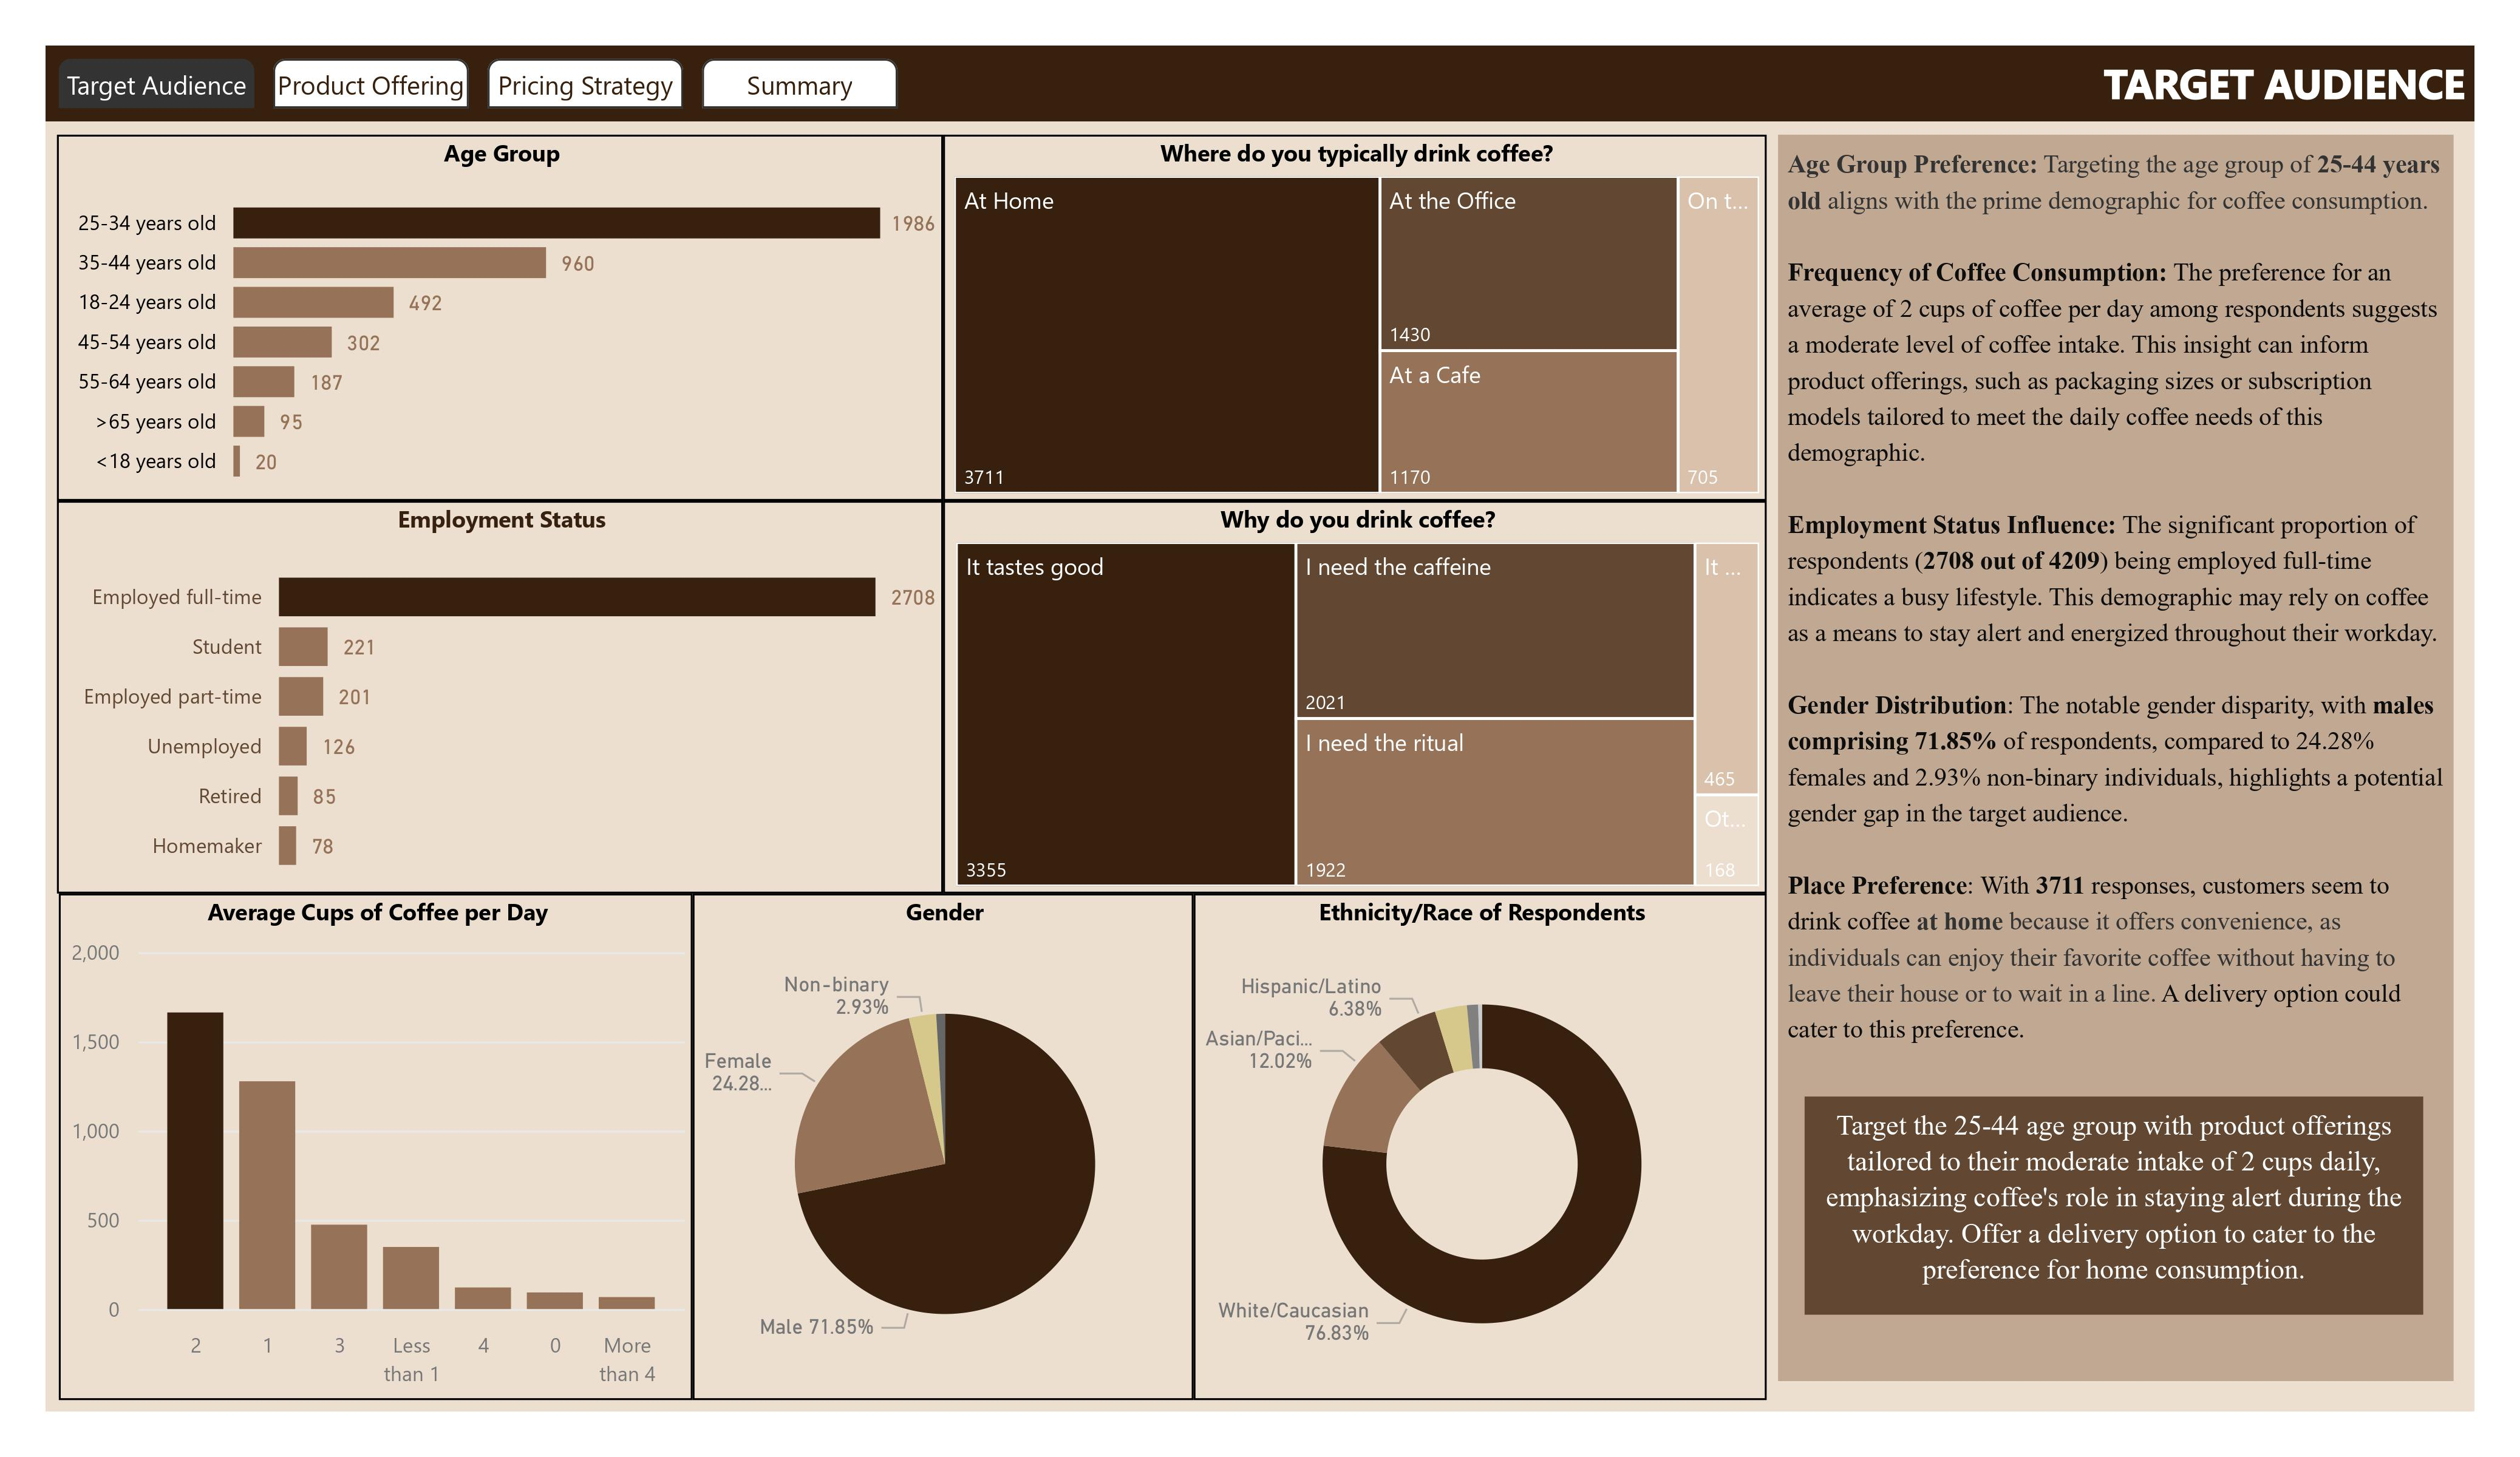

Layout of this report page (visuals, bound fields, positions):
{"tool":"powerbi","page":{"name":"Target Audience","canvas":[1280,720],"ordinal":1},"visuals":[{"type":"clusteredBarChart","title":"Age Group","fields":{"Category":["GACTT_RESULTS_ANONYMIZED_v2.What is your age?"],"Y":["CountNonNull(GACTT_RESULTS_ANONYMIZED_v2.Submission ID)"]},"box":[6.1,46.9,466.8,193],"z":0},{"type":"clusteredBarChart","title":"Employment Status","fields":{"Y":["CountNonNull(GACTT_RESULTS_ANONYMIZED_v2.Submission ID)"],"Category":["GACTT_RESULTS_ANONYMIZED_v2.Employment Status"]},"box":[6.1,239.8,466.8,207.2],"z":1000},{"type":"textbox","box":[0,0,1280,40.2],"z":1500},{"type":"donutChart","title":"Ethnicity/Race of Respondents","fields":{"Y":["CountNonNull(GACTT_RESULTS_ANONYMIZED_v2.Submission ID)"],"Category":["GACTT_RESULTS_ANONYMIZED_v2.Ethnicity/Race"]},"box":[605.1,447.1,301.8,267],"z":2000},{"type":"columnChart","title":"Average Cups of Coffee per Day","fields":{"Y":["CountNonNull(GACTT_RESULTS_ANONYMIZED_v2.Submission ID)"],"Category":["GACTT_RESULTS_ANONYMIZED_v2.How many cups of coffee do you typically drink per day?"]},"box":[6.7,446.7,334,267.2],"z":4000},{"type":"pieChart","title":"Gender","fields":{"Category":["GACTT_RESULTS_ANONYMIZED_v2.Gender"],"Y":["CountNonNull(GACTT_RESULTS_ANONYMIZED_v2.Submission ID)"]},"box":[340.7,446.7,264.7,267.2],"z":5000},{"type":"textbox","box":[912.7,46.7,356.4,657.5],"z":6000},{"type":"textbox","box":[100,100,300,300],"z":7000},{"type":"textbox","box":[926.7,554.2,325.8,115],"z":8000},{"type":"treemap","title":"Where do you typically drink coffee?","fields":{"Values":["GACTT_RESULTS_ANONYMIZED_v2.At Home","GACTT_RESULTS_ANONYMIZED_v2.At the Office","GACTT_RESULTS_ANONYMIZED_v2.At a Cafe","GACTT_RESULTS_ANONYMIZED_v2.On the go"]},"box":[472.6,46.8,434.2,192.9],"z":9000},{"type":"treemap","title":"Why do you drink coffee?","fields":{"Values":["GACTT_RESULTS_ANONYMIZED_v2.It tastes good","GACTT_RESULTS_ANONYMIZED_v2.I need the caffeine","GACTT_RESULTS_ANONYMIZED_v2.I need the ritual","GACTT_RESULTS_ANONYMIZED_v2.It makes me go to the bathroom","GACTT_RESULTS_ANONYMIZED_v2.Other reasons why drink coffee"]},"box":[473.4,240.1,434.1,206.8],"z":10000},{"type":"pageNavigator","box":[6.7,6.7,444.2,26.7],"z":11000}]}

Visuals, with their boxes in screenshot pixels (x1, y1, x2, y2):
"Age Group" clusteredBarChart: 57 135 943 501
"Employment Status" clusteredBarChart: 57 500 943 894
textbox: 46 46 2474 122
"Ethnicity/Race of Respondents" donutChart: 1194 894 1766 1401
"Average Cups of Coffee per Day" columnChart: 58 893 692 1400
"Gender" pieChart: 692 893 1194 1400
textbox: 1777 134 2454 1382
textbox: 236 236 805 804
textbox: 1804 1097 2422 1315
"Where do you typically drink coffee?" treemap: 942 134 1766 500
"Why do you drink coffee?" treemap: 944 501 1768 894
pageNavigator: 58 58 901 109
